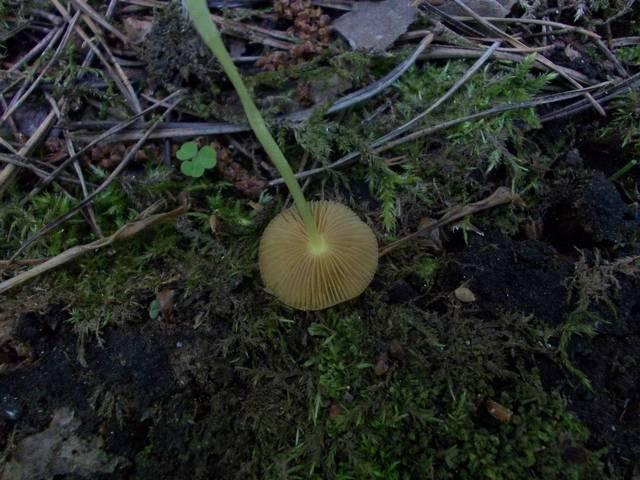edible_mushroom: (257, 198, 378, 311)
